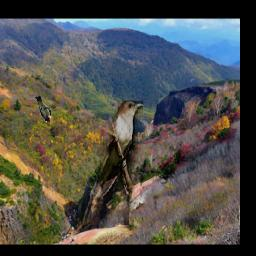Cuckoo: (83, 102, 144, 226)
Swallow: (35, 96, 52, 124)
